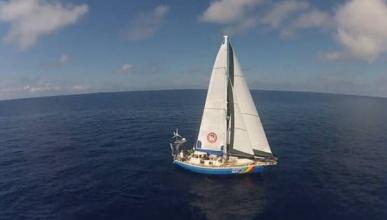fanchuan: (169, 31, 279, 177)
